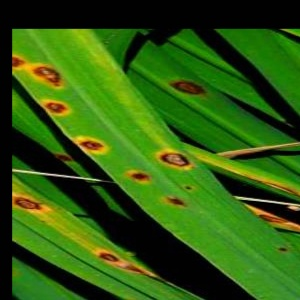Bacterial_Leaf_Blight: (29, 53, 69, 97), (35, 89, 75, 124), (163, 74, 214, 101), (12, 188, 56, 219), (68, 130, 114, 159), (151, 147, 198, 175), (119, 165, 159, 189), (12, 42, 30, 81), (93, 248, 125, 268), (162, 191, 189, 213), (273, 244, 292, 256), (181, 181, 197, 193)
